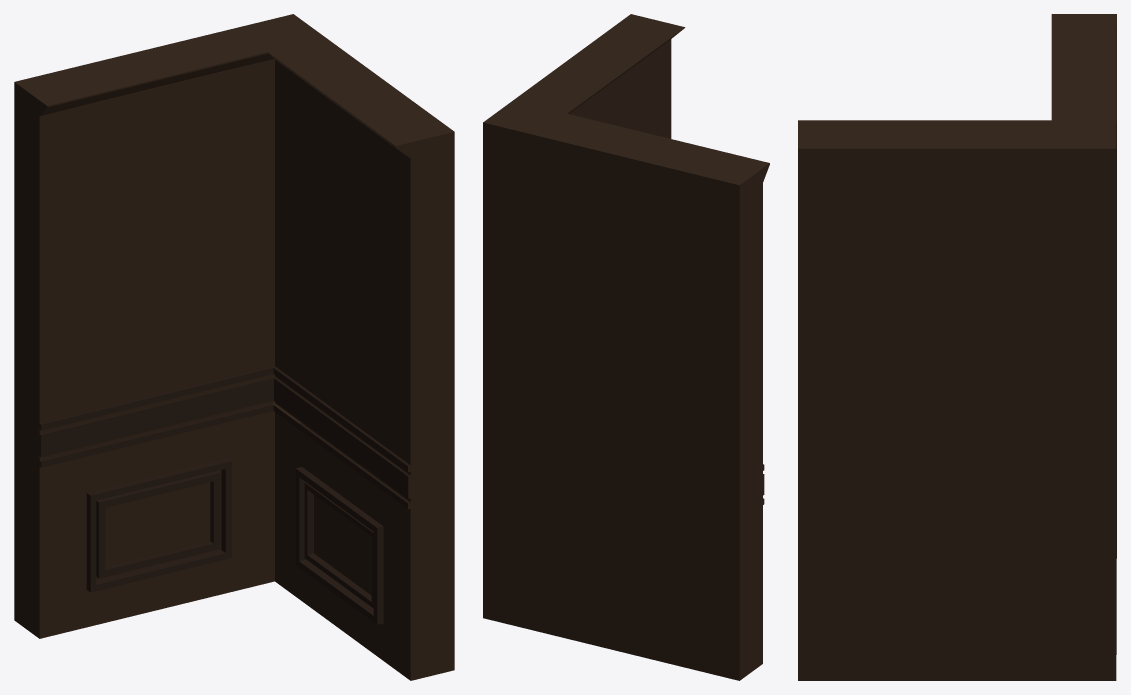
File: CORNER.glb
The picture shows the model from 3 angles, left to right: view 1: azimuth 30°, elevation 25°; view 2: azimuth 150°, elevation 25°; view 3: azimuth 270°, elevation 25°; orthographic projection. The views are drawn at different scales.
Parts seen in each view (by area): view 1: Main room corner.001; view 2: Main room corner.001; view 3: Main room corner.001.
Part boxes in pixels (x1,y1,x2,y2): Main room corner.001: [14, 14, 454, 680]; Main room corner.001: [483, 14, 769, 680]; Main room corner.001: [798, 14, 1116, 680].
Size of the model in its own units: 1.09 by 2 by 1.09.
